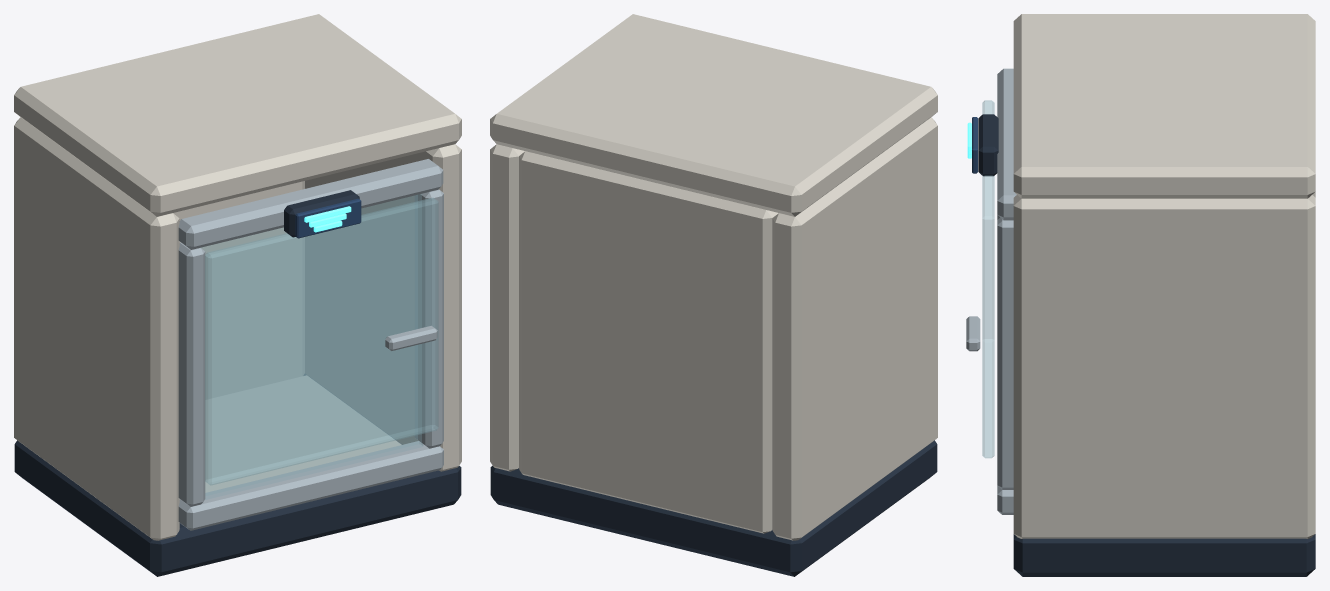
Rendered from lab_08.glb.
The picture shows the model from 3 angles, left to right: view 1: azimuth 30°, elevation 25°; view 2: azimuth 150°, elevation 25°; view 3: azimuth 270°, elevation 25°; orthographic projection. The views are drawn at different scales.
Parts seen in each view (by area): view 1: Side (×2), Top, InternalGlass, InsetPanel, Base, Back, GlazedSideRail (×2), Bottom, DoorPanel, GlazedTopRail, Screen, MonitorFrame (+1 smaller); view 2: Back, Side (×2), Top, Base; view 3: Side, Top, Base, GlazedSideRail, InternalGlass, GlazedTopRail, MonitorFrame, Handle.
Part boxes in pixels (x1=…): Side (×2): x1=14, y1=117, x2=461, y2=540; Top: x1=14, y1=14, x2=461, y2=216; InternalGlass: x1=205, y1=197, x2=438, y2=485; InsetPanel: x1=201, y1=194, x2=423, y2=499; Base: x1=14, y1=374, x2=461, y2=576; Back: x1=173, y1=181, x2=304, y2=399; GlazedSideRail (×2): x1=178, y1=189, x2=443, y2=506; Bottom: x1=205, y1=375, x2=401, y2=492; DoorPanel: x1=178, y1=441, x2=443, y2=530; GlazedTopRail: x1=178, y1=159, x2=443, y2=249; Screen: x1=295, y1=198, x2=361, y2=238; MonitorFrame: x1=284, y1=190, x2=359, y2=237; Back: x1=519, y1=151, x2=778, y2=533; Side (×2): x1=490, y1=117, x2=937, y2=540; Top: x1=490, y1=14, x2=937, y2=216; Base: x1=490, y1=440, x2=937, y2=576; Side: x1=1013, y1=195, x2=1315, y2=538; Top: x1=1013, y1=14, x2=1315, y2=198; Base: x1=1013, y1=534, x2=1315, y2=576; GlazedSideRail: x1=997, y1=217, x2=1013, y2=489; InternalGlass: x1=982, y1=100, x2=994, y2=458; GlazedTopRail: x1=997, y1=68, x2=1016, y2=220; MonitorFrame: x1=978, y1=114, x2=998, y2=176; Handle: x1=966, y1=316, x2=980, y2=351.
Size of the model in its own units: 0.75 by 0.9 by 0.694.
